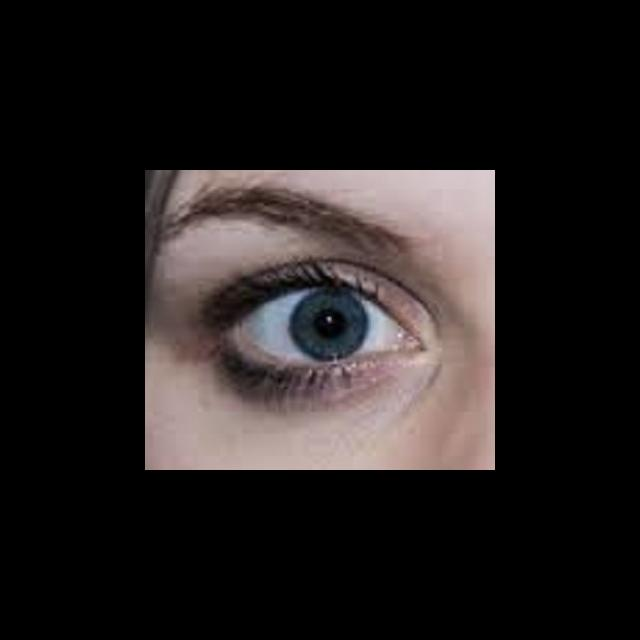eye: (222, 286, 408, 365)
iris: (291, 289, 366, 361)
